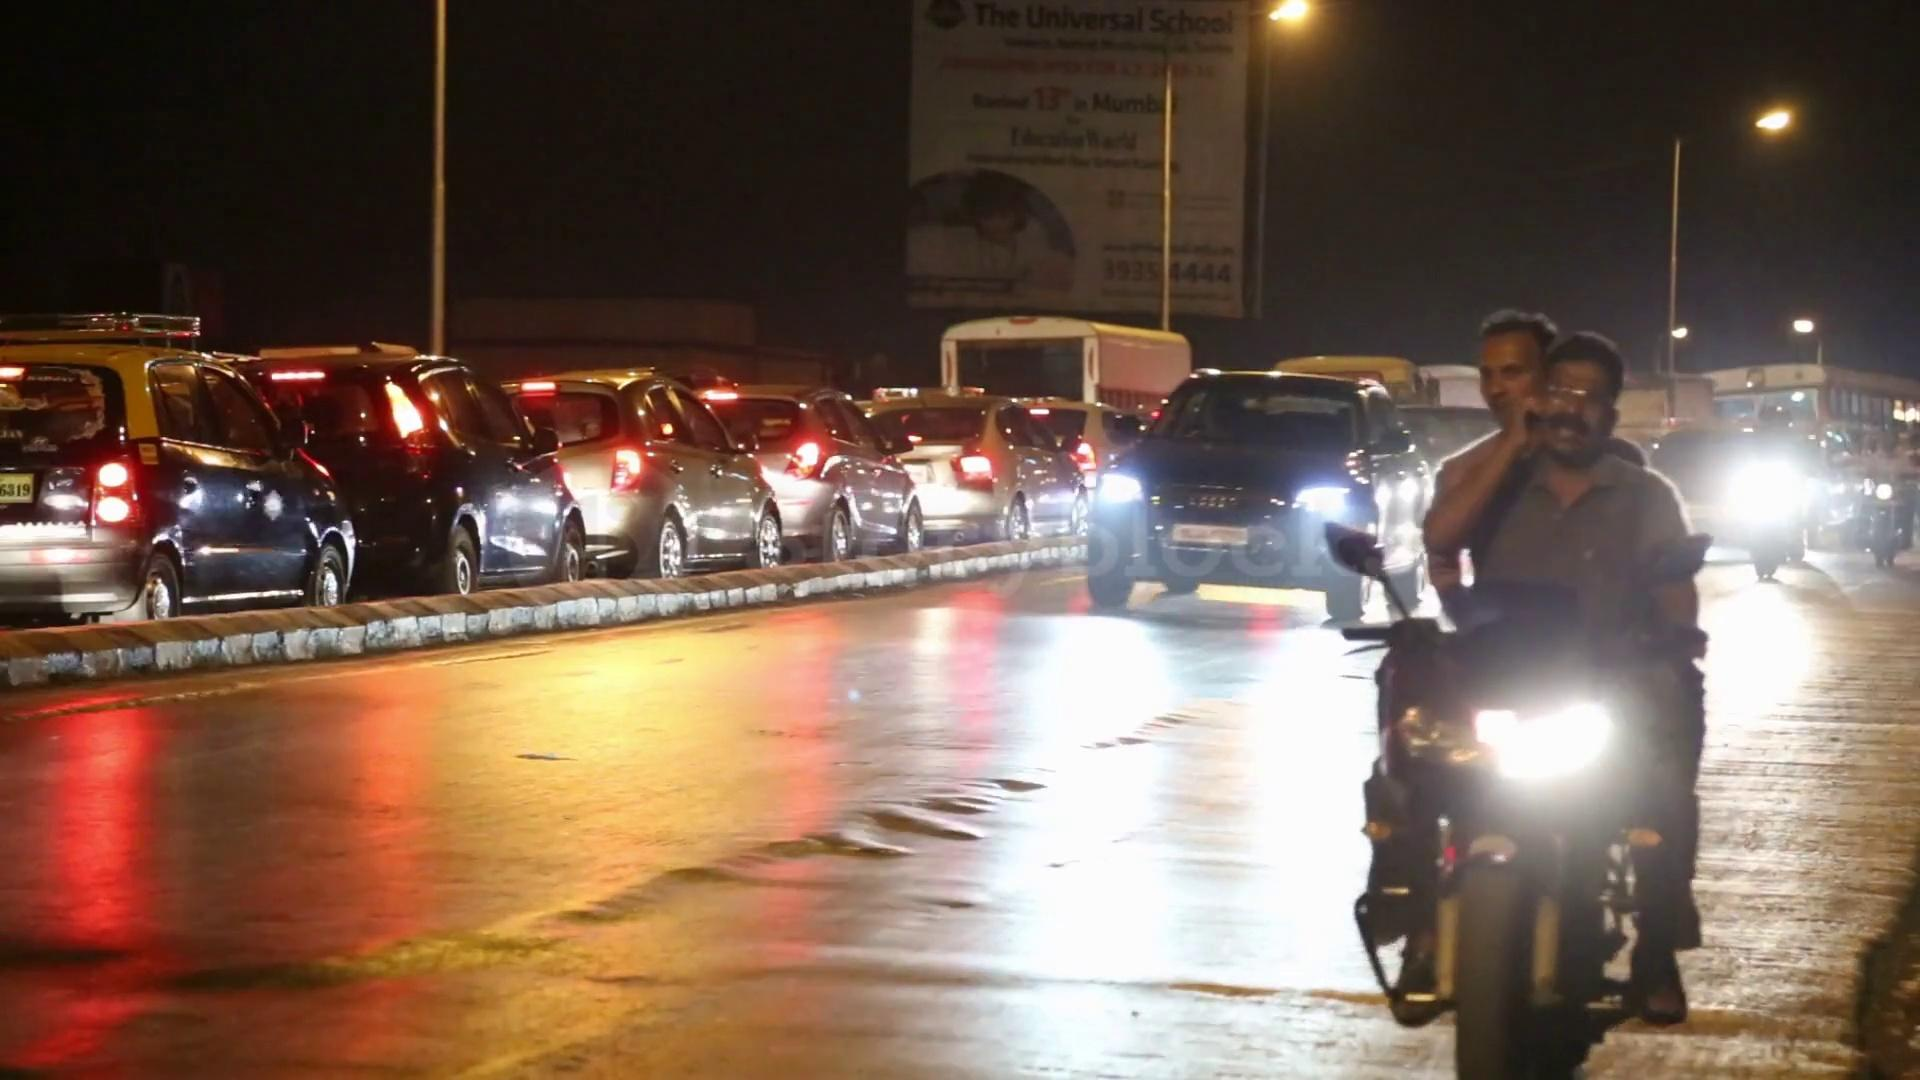rider: (1374, 321, 1711, 1025), (1861, 420, 1910, 574)
without_helmate: (1533, 344, 1629, 466), (1459, 314, 1546, 406)
